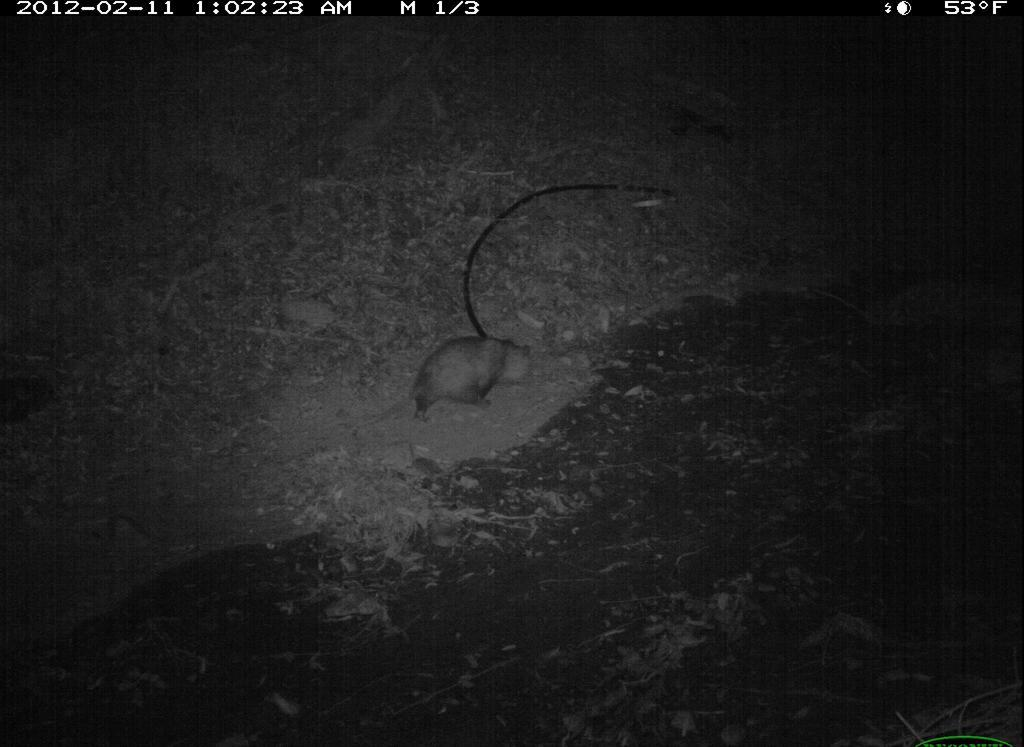opossum: (377, 286, 557, 438)
